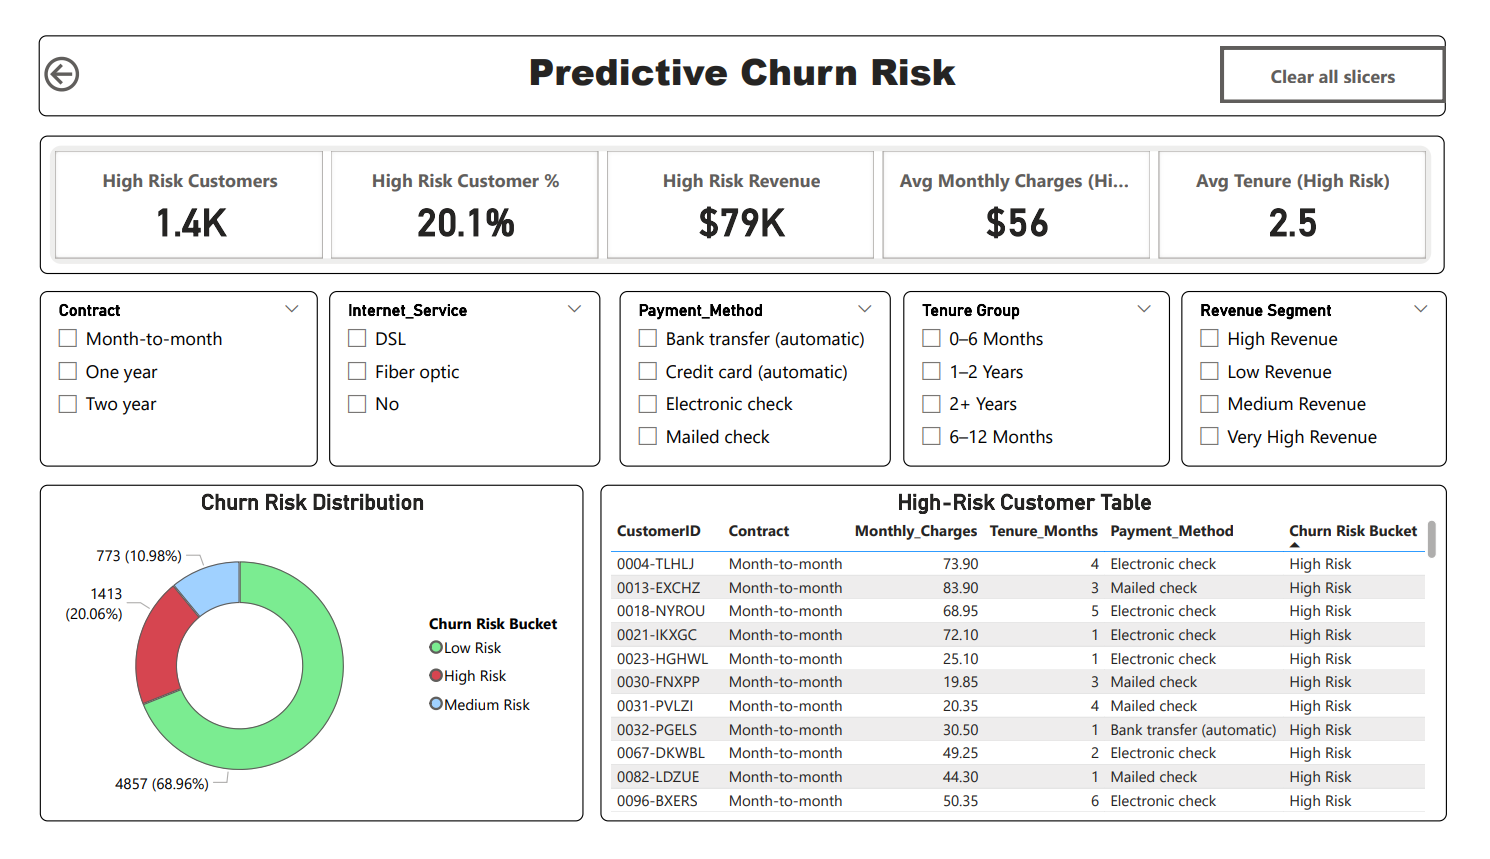

The dashboard page shown, as its layout file describes it:
{"tool":"powerbi","page":{"name":"Predictive Churn Risk","canvas":[1280,720],"ordinal":2},"visuals":[{"type":"cardVisual","fields":{"Data":["telco_customer_db telco_customer_churn.High Risk Customers","telco_customer_db telco_customer_churn.High Risk Customer %","telco_customer_db telco_customer_churn.High Risk Revenue","telco_customer_db telco_customer_churn.Avg Monthly Charges (High Risk)","telco_customer_db telco_customer_churn.Avg Tenure (High Risk)"]},"box":[13.7,98.8,1248,123],"z":0},{"type":"textbox","box":[13.5,9.8,1249.7,72.1],"z":1000},{"type":"actionButton","box":[13.5,24.5,100.3,40.4],"z":2000},{"type":"tableEx","title":"High-Risk Customer Table","fields":{"Values":["telco_customer_db telco_customer_churn.CustomerID","telco_customer_db telco_customer_churn.Contract","telco_customer_db telco_customer_churn.Monthly_Charges","telco_customer_db telco_customer_churn.Tenure_Months","telco_customer_db telco_customer_churn.Payment_Method","telco_customer_db telco_customer_churn.Churn Risk Bucket"]},"box":[512,409,751.8,298.6],"z":3000},{"type":"donutChart","title":"Churn Risk Distribution","fields":{"Category":["telco_customer_db telco_customer_churn.Churn Risk Bucket"],"Y":["telco_customer_db telco_customer_churn.Total Customers"]},"box":[13.7,409,483.6,298.6],"z":4000},{"type":"slicer","fields":{"Values":["telco_customer_db telco_customer_churn.Contract"]},"box":[13.7,236.6,247.1,156.7],"z":5000},{"type":"slicer","fields":{"Values":["telco_customer_db telco_customer_churn.Internet_Service"]},"box":[271.3,236.6,240.8,156.7],"z":6000},{"type":"slicer","fields":{"Values":["telco_customer_db telco_customer_churn.Payment_Method"]},"box":[528.9,236.6,240.8,156.7],"z":7000},{"type":"slicer","fields":{"Values":["telco_customer_db telco_customer_churn.Tenure Group"]},"box":[781.2,236.6,236.6,156.7],"z":8000},{"type":"slicer","fields":{"Values":["telco_customer_db telco_customer_churn.Revenue Segment"]},"box":[1028.3,236.6,235.5,156.7],"z":9000},{"type":"actionButton","box":[1062.6,19.6,200.5,50.1],"z":10000}]}

Visuals, with their boxes in screenshot pixels (x1, y1, x2, y2), scaled from the page's 1280x720 canvas onto the 1490x859 screenshot:
cardVisual - telco_customer_db telco_customer_churn.High Risk Customers x telco_customer_db telco_customer_churn.High Risk Customer %: bbox(16, 118, 1469, 265)
textbox: bbox(16, 12, 1470, 98)
actionButton: bbox(16, 29, 132, 77)
"High-Risk Customer Table" tableEx: bbox(596, 488, 1471, 844)
"Churn Risk Distribution" donutChart: bbox(16, 488, 579, 844)
slicer - telco_customer_db telco_customer_churn.Contract: bbox(16, 282, 304, 469)
slicer - telco_customer_db telco_customer_churn.Internet_Service: bbox(316, 282, 596, 469)
slicer - telco_customer_db telco_customer_churn.Payment_Method: bbox(616, 282, 896, 469)
slicer - telco_customer_db telco_customer_churn.Tenure Group: bbox(909, 282, 1185, 469)
slicer - telco_customer_db telco_customer_churn.Revenue Segment: bbox(1197, 282, 1471, 469)
actionButton: bbox(1237, 23, 1470, 83)
